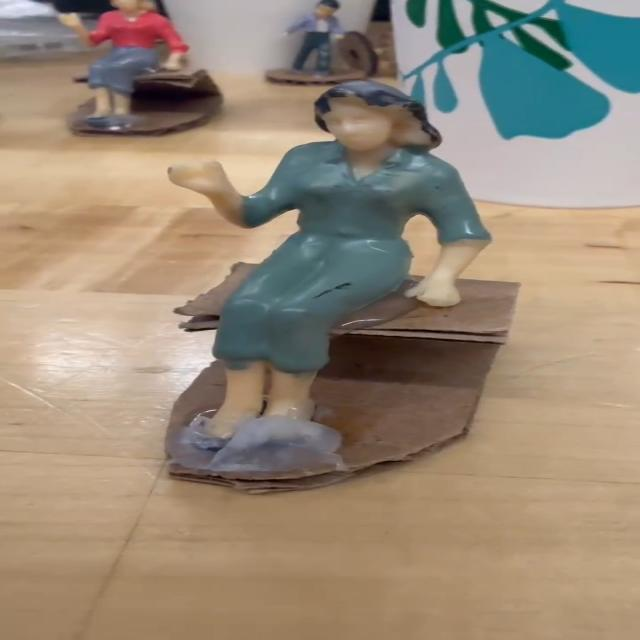Authorized: (155, 80, 490, 474)
